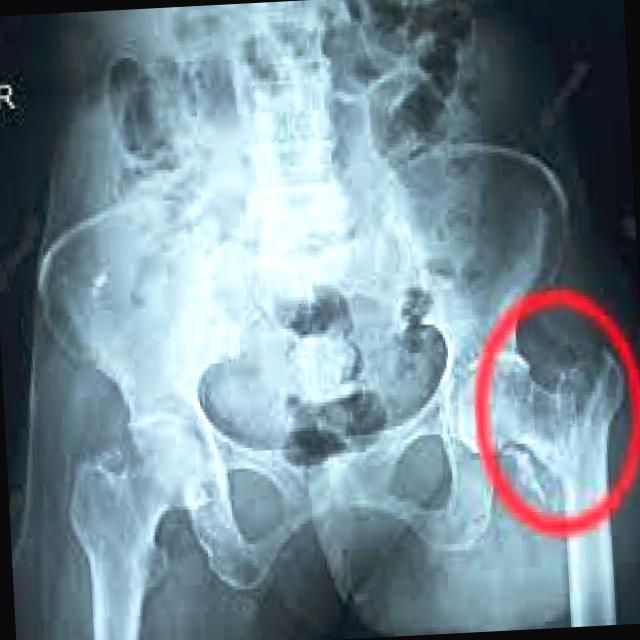Comminuted Fracture: (519, 344, 621, 480)
